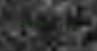eight: (73, 21, 80, 33)
four: (33, 18, 40, 30)
nine: (25, 18, 32, 29)
one: (57, 20, 64, 32), (49, 20, 56, 31)
three: (41, 19, 48, 30), (65, 21, 72, 32)
zero: (17, 17, 24, 29)
